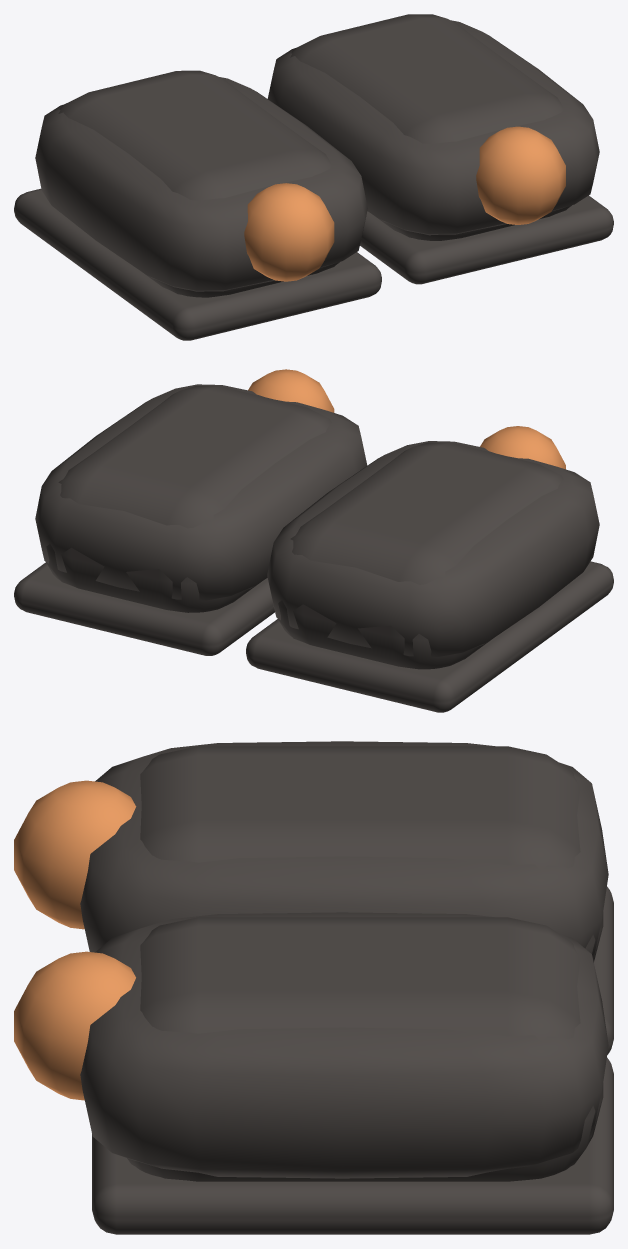
File: jesters_shoes.glb
The picture shows the model from 3 angles, top to bottom: view 1: azimuth 30°, elevation 25°; view 2: azimuth 150°, elevation 25°; view 3: azimuth 270°, elevation 25°; orthographic projection. The views are drawn at different scales.
Visible parts, largest first — view 1: jesters_shoes_LegL, jesters_shoes_LegR; view 2: jesters_shoes_LegL, jesters_shoes_LegR; view 3: jesters_shoes_LegR, jesters_shoes_LegL.
Boxes of the visible parts, bbox=[...] form: jesters_shoes_LegL: bbox=[14, 70, 381, 340]; jesters_shoes_LegR: bbox=[267, 14, 613, 284]; jesters_shoes_LegL: bbox=[246, 426, 613, 712]; jesters_shoes_LegR: bbox=[14, 369, 367, 655]; jesters_shoes_LegR: bbox=[14, 912, 613, 1234]; jesters_shoes_LegL: bbox=[14, 741, 613, 1054].
Size of the model in its own units: 0.37 by 0.1075 by 0.2816.
